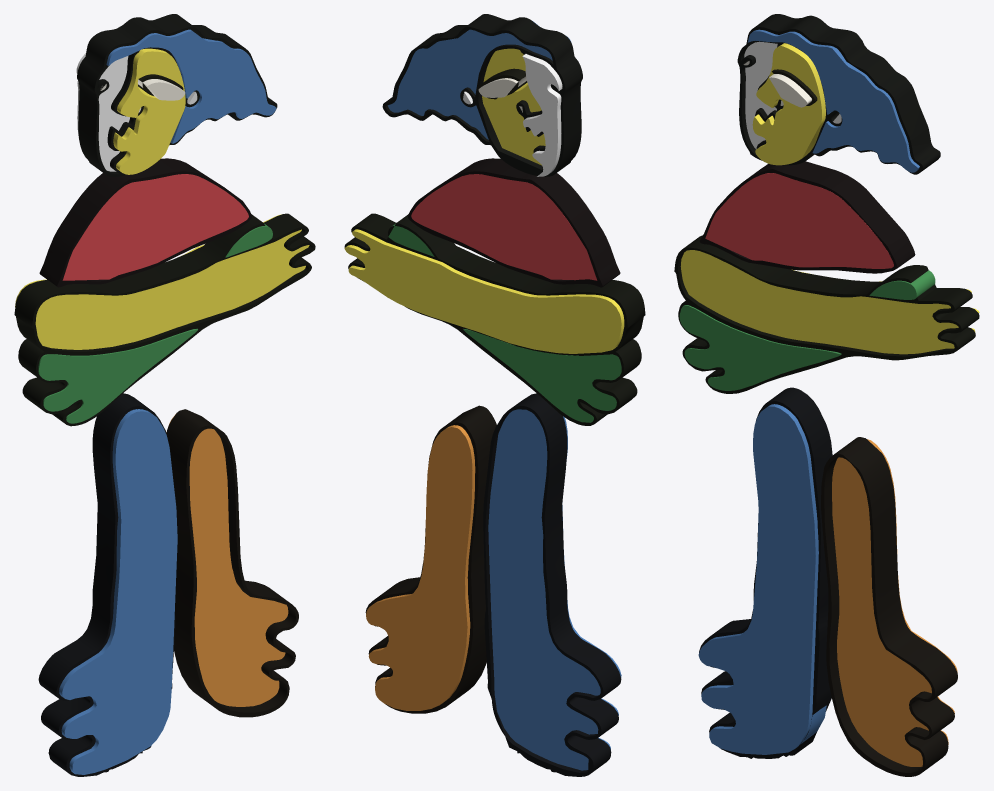
File: rebel.glb
The picture shows the model from 3 angles, left to right: view 1: azimuth 30°, elevation 25°; view 2: azimuth 150°, elevation 25°; view 3: azimuth 330°, elevation 25°; orthographic projection.
Parts seen in each view (by area): view 1: Shape 3, Shape 1, Shape 5, Shape 9, Shape 4, Shape 0, Shape 2, Shape 11, Shape 10, Shape 6, Shape 12, Shape 8 (+3 smaller); view 2: Shape 3, Shape 1, Shape 5, Shape 2, Shape 9, Shape 4, Shape 10, Shape 11, Shape 0, Shape 6, Shape 8, Shape 12 (+3 smaller); view 3: Shape 3, Shape 0, Shape 1, Shape 5, Shape 9, Shape 4, Shape 11, Shape 10, Shape 2, Shape 6, Shape 12, Shape 8 (+3 smaller).
Boxes of the visible parts, box(x1,y1,x2,y2) form: Shape 3: box(59, 409, 177, 774); Shape 1: box(166, 414, 288, 706); Shape 5: box(15, 214, 309, 349); Shape 9: box(62, 174, 248, 280); Shape 4: box(14, 213, 315, 426); Shape 0: box(166, 409, 298, 717); Shape 2: box(38, 393, 176, 776); Shape 11: box(106, 29, 276, 143); Shape 10: box(77, 14, 277, 176); Shape 6: box(38, 328, 197, 423); Shape 12: box(113, 48, 185, 174); Shape 8: box(39, 158, 251, 287); Shape 3: box(488, 409, 621, 770); Shape 1: box(366, 425, 475, 710); Shape 5: box(344, 229, 624, 353); Shape 2: box(483, 393, 621, 776); Shape 9: box(411, 174, 597, 280); Shape 4: box(344, 213, 645, 425); Shape 10: box(382, 14, 582, 176); Shape 11: box(387, 21, 571, 139); Shape 0: box(365, 405, 496, 713); Shape 6: box(463, 329, 621, 422); Shape 8: box(408, 158, 620, 287); Shape 12: box(482, 48, 545, 165); Shape 3: box(698, 404, 826, 754); Shape 0: box(821, 437, 957, 776); Shape 1: box(832, 439, 957, 766); Shape 5: box(680, 250, 979, 354); Shape 9: box(705, 173, 893, 268); Shape 4: box(674, 235, 979, 393); Shape 11: box(747, 29, 919, 172); Shape 10: box(737, 14, 940, 174); Shape 2: box(699, 387, 832, 758); Shape 6: box(679, 305, 841, 390); Shape 12: box(752, 43, 825, 165); Shape 8: box(699, 161, 915, 273).
Size of the model in its own units: 0.7591 by 1.87 by 0.1668.
